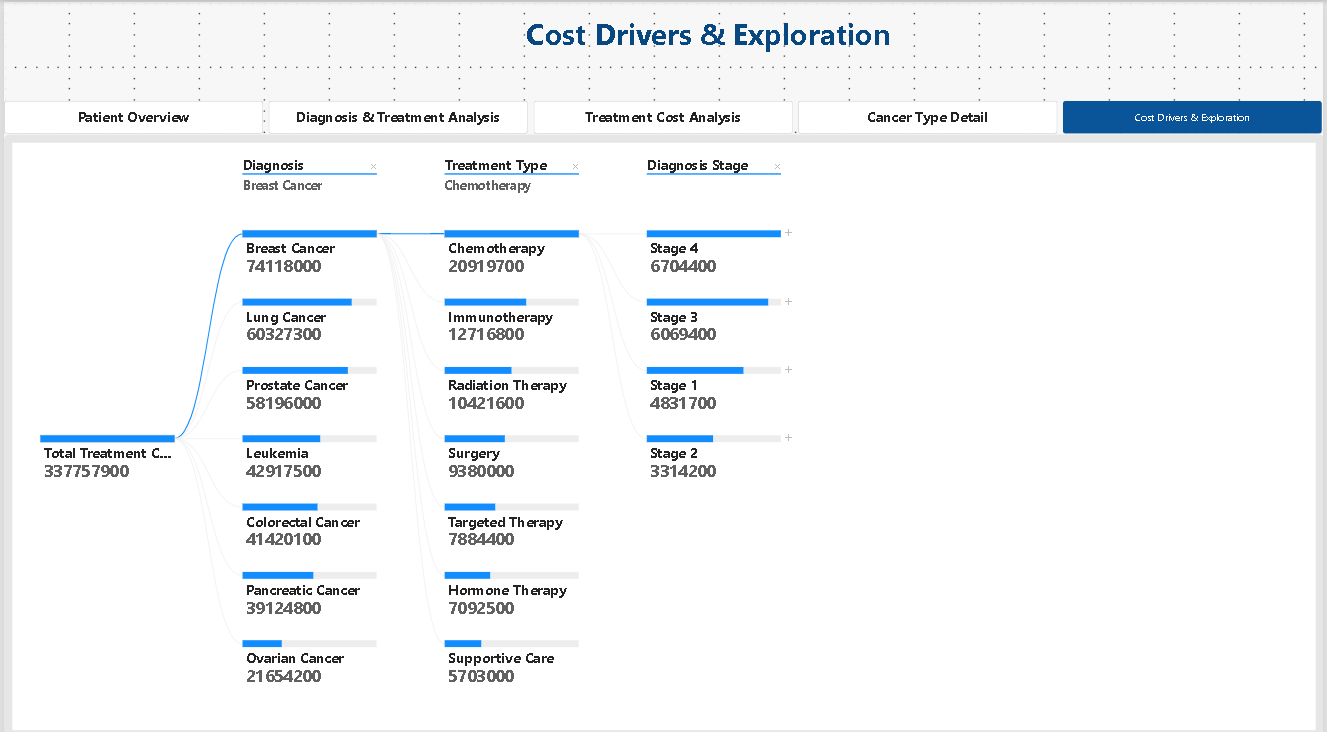

What the dashboard file says about the page in this screenshot:
{"tool":"powerbi","page":{"name":"Cost Drivers & Exploration","canvas":[1920,1080],"ordinal":5},"visuals":[{"type":"decompositionTreeVisual","fields":{"Analyze":["Patient Data.Total Treatment Cost"],"ExplainBy":["Patient Data.Diagnosis","Patient Data.Treatment Type","Patient Data.Diagnosis Stage","Patient Data.Gender"]},"box":[0,192,1920,880],"z":0},{"type":"textbox","box":[432,16,1184,64],"z":1},{"type":"pageNavigator","box":[0,144,1920,48],"z":2}]}

Visuals, with their boxes in screenshot pixels (x1, y1, x2, y2), scaled from the page's 1920x1080 canvas onto the 1327x732 screenshot:
decompositionTreeVisual - Patient Data.Total Treatment Cost x Patient Data.Diagnosis: rect(0, 130, 1326, 727)
textbox: rect(299, 11, 1117, 54)
pageNavigator: rect(0, 98, 1326, 130)
